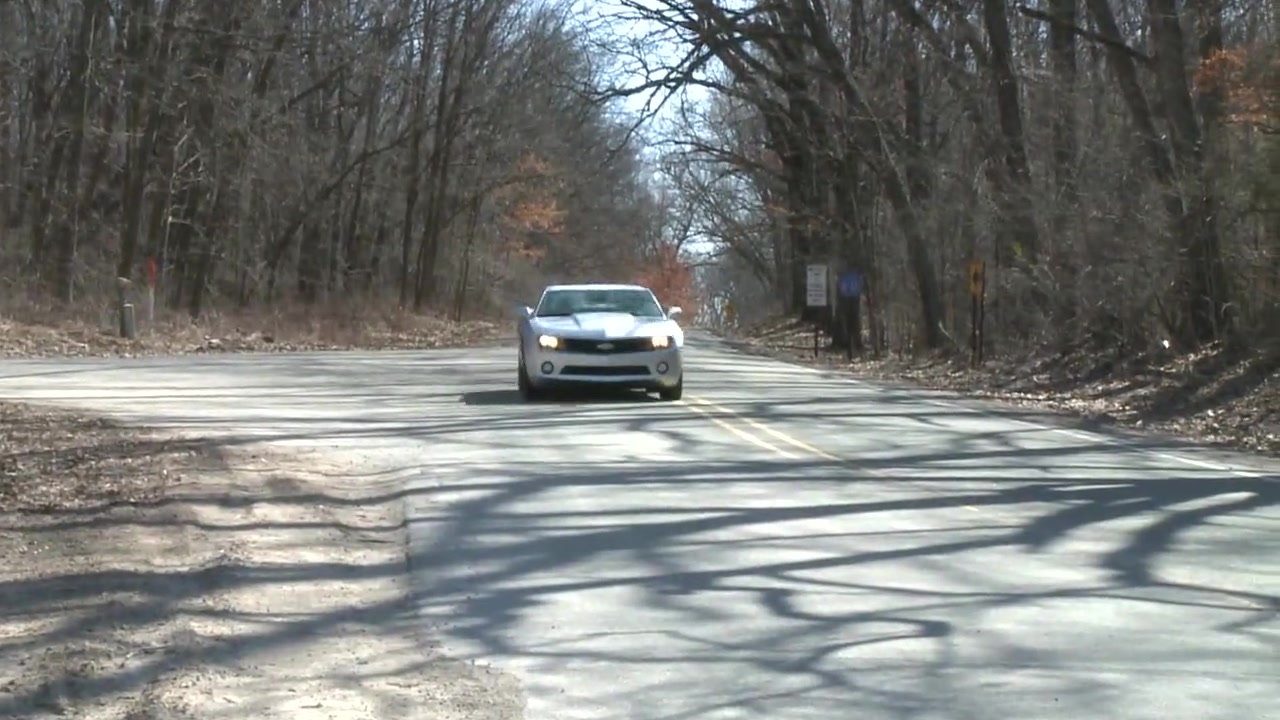car: (514, 282, 690, 403)
